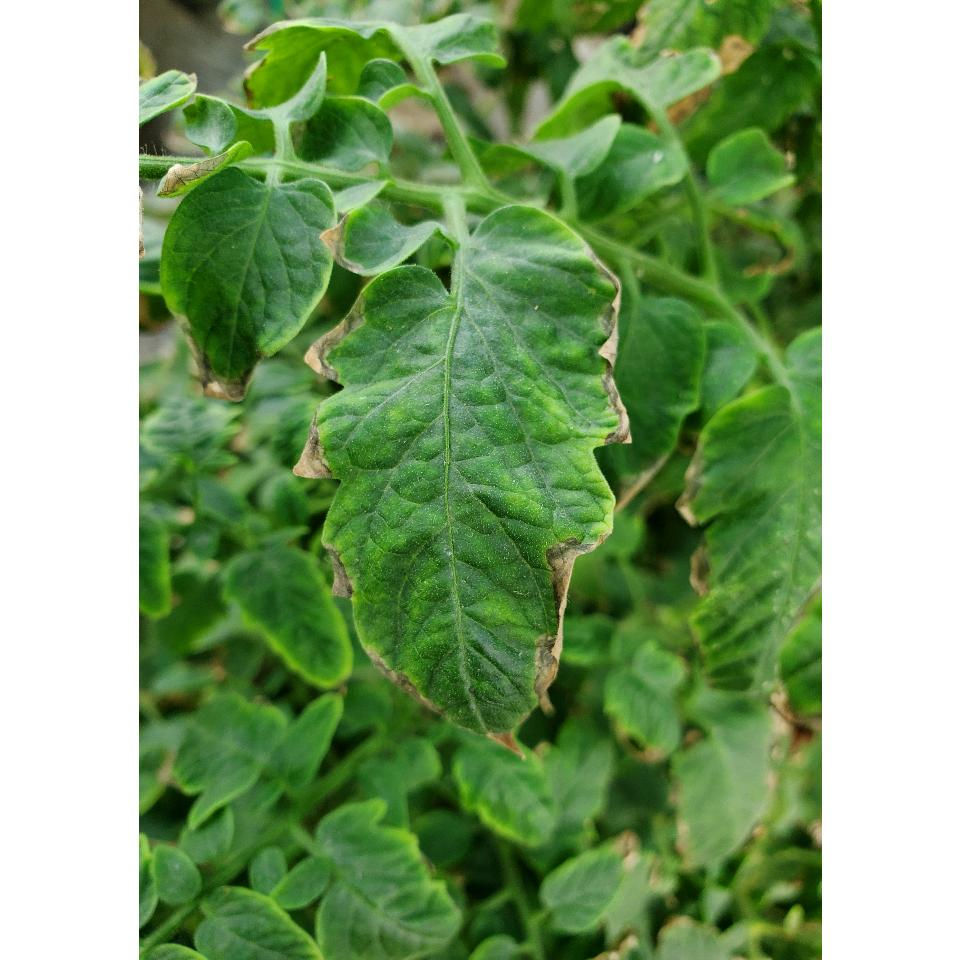tomato_bacterial_blight: (292, 176, 638, 753)
